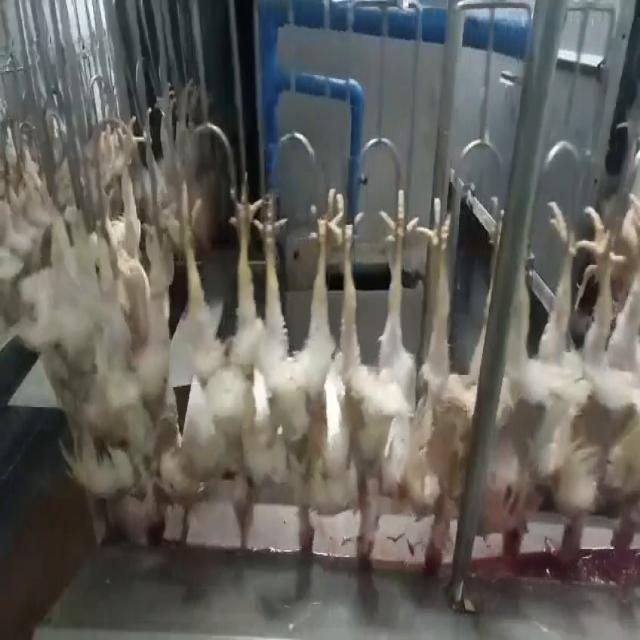chicken: (494, 200, 603, 554), (169, 172, 254, 556), (324, 186, 409, 568), (408, 207, 488, 575), (262, 176, 336, 566), (106, 182, 170, 550), (599, 191, 639, 557)
